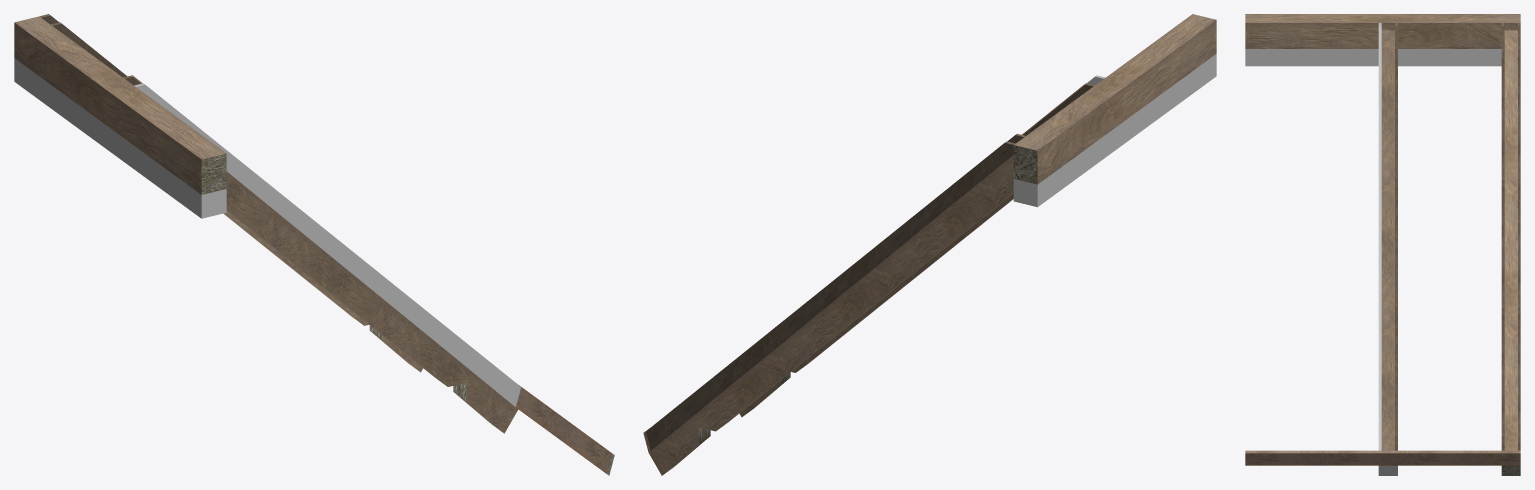
File: RafterCapEndA.fbx
The picture shows the model from 3 angles, left to right: view 1: azimuth 30°, elevation 25°; view 2: azimuth 150°, elevation 25°; view 3: azimuth 270°, elevation 25°; orthographic projection. The views are drawn at different scales.
Parts seen in each view (by area): view 1: RafterCapEndA; view 2: RafterCapEndA; view 3: RafterCapEndA.
Boxes of the visible parts, box(x1,y1,x2,y2) form: RafterCapEndA: box(14, 14, 614, 475); RafterCapEndA: box(643, 14, 1216, 475); RafterCapEndA: box(1245, 14, 1520, 475).
Size of the model in its own units: 495 by 500 by 389.
